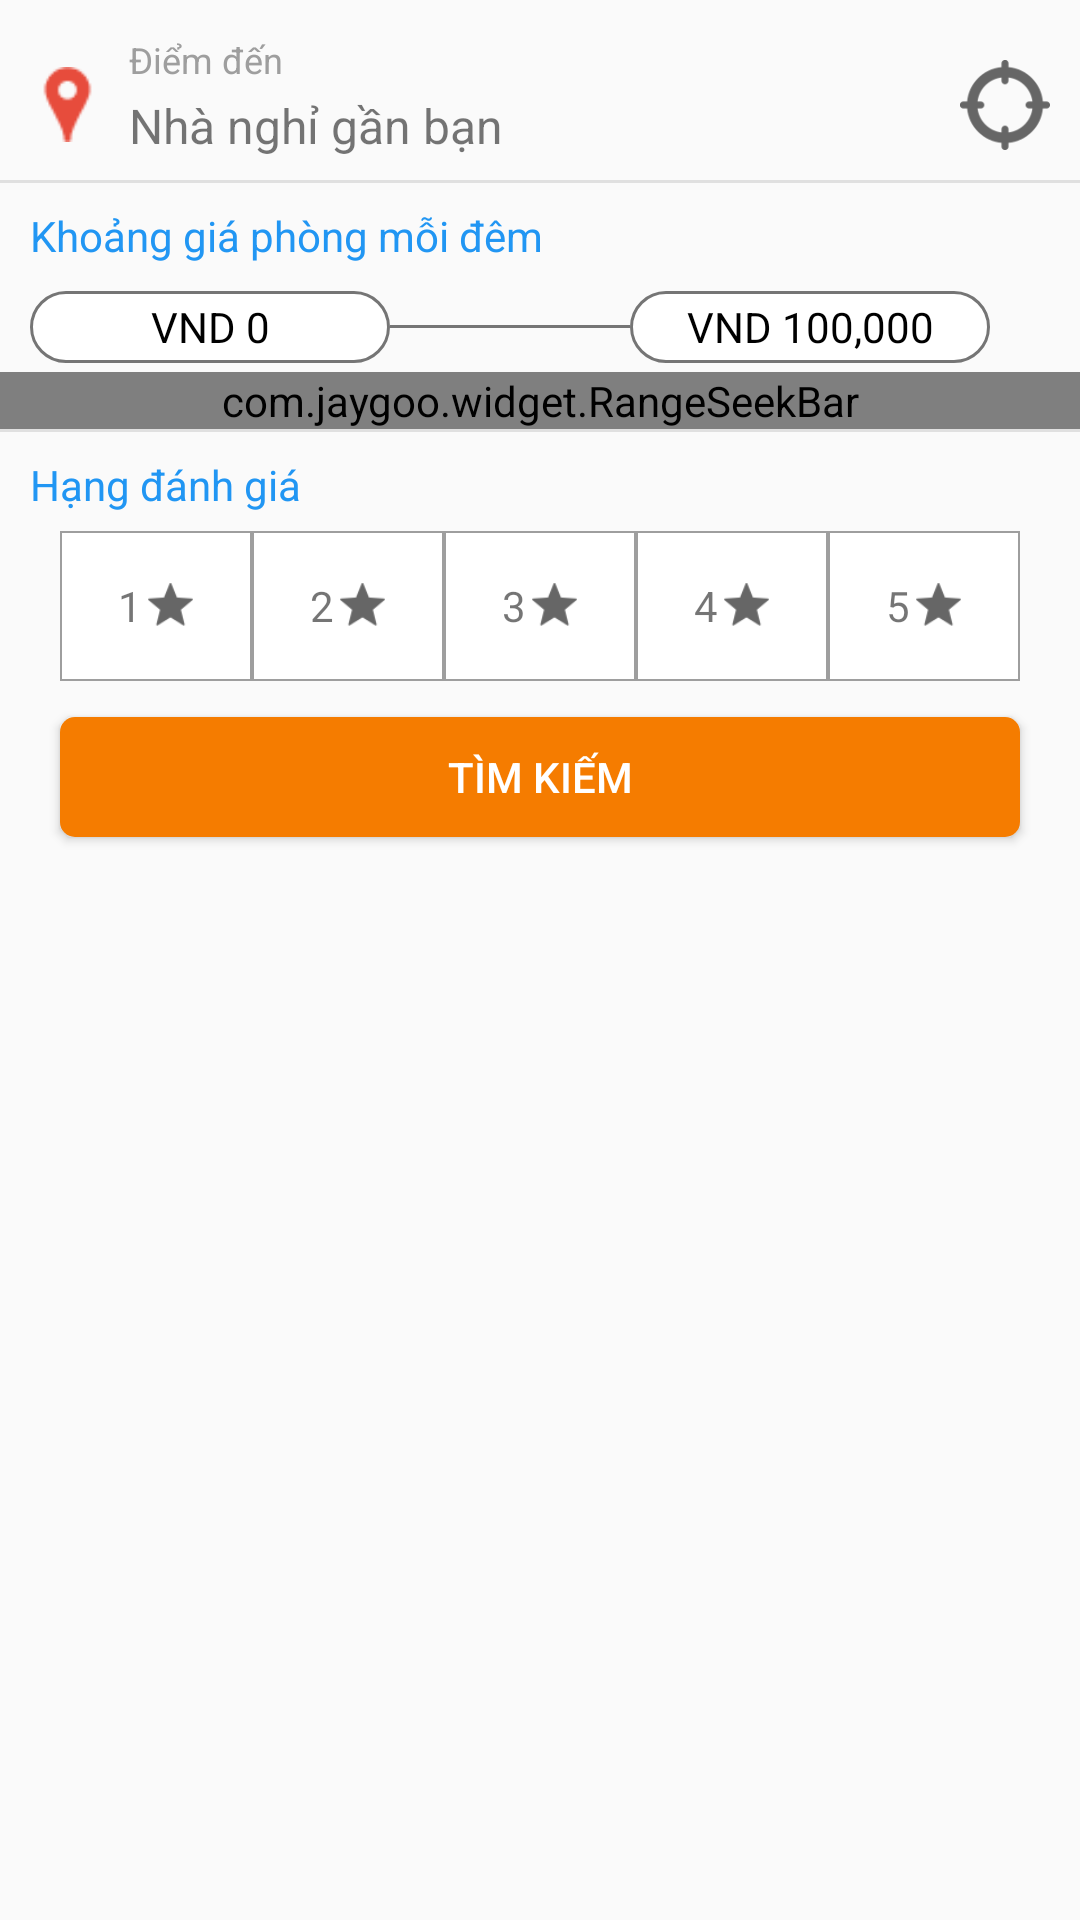

Icon bounding boxes for this 1080px×1920px phone screenshot, format Rect(x1, y1, x2, y2):
find location: Rect(960, 60, 1050, 150)
location: Rect(43, 67, 92, 142)
star: Rect(148, 583, 193, 626), Rect(340, 583, 385, 626), Rect(532, 583, 577, 626), Rect(724, 583, 769, 626), Rect(916, 583, 961, 626)
